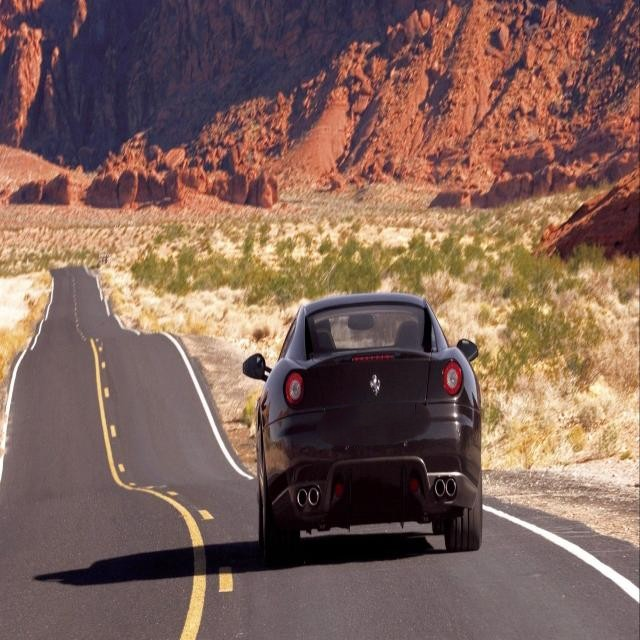car: (240, 292, 482, 546)
